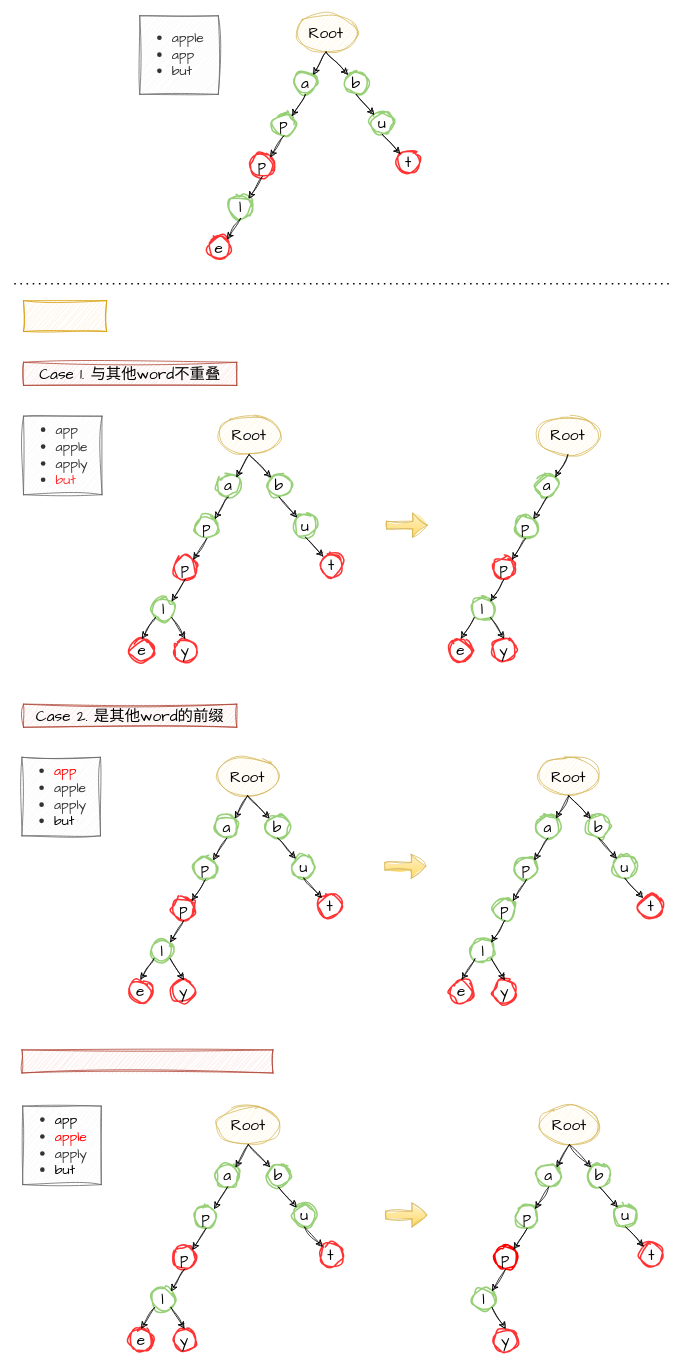
Image size: 683x1366. Some labels were removed from this diagram. The centre of each missing label's shape, as x and y in pixels:
"Case 3. 与其他word有共同的前缀" goes at (147,1061).
"Delete" goes at (65,315).
